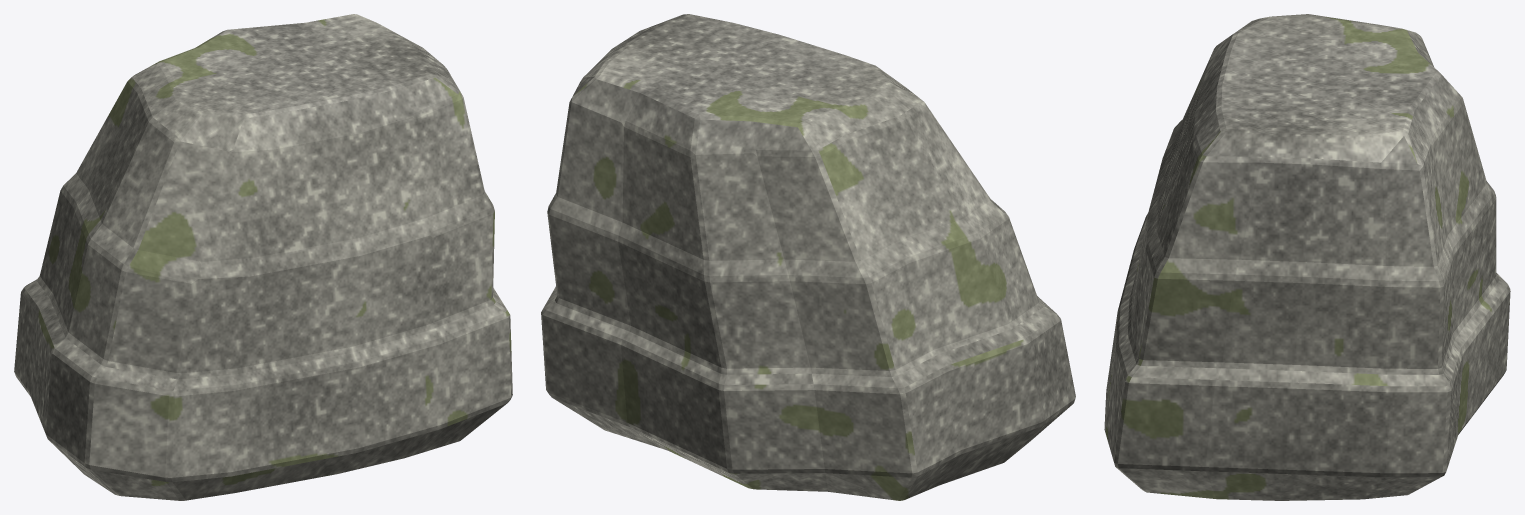
File: granite-kit-v02.glb
3 renders of one model, left to right at view 1: azimuth 30°, elevation 25°; view 2: azimuth 150°, elevation 25°; view 3: azimuth 270°, elevation 25°, orthographic. The views are drawn at different scales.
Parts seen in each view (by area): view 1: granite_2; view 2: granite_2; view 3: granite_2.
Boxes of the visible parts, bbox=[...] form: granite_2: bbox=[14, 14, 512, 500]; granite_2: bbox=[541, 14, 1075, 500]; granite_2: bbox=[1104, 14, 1510, 500].
Size of the model in its own units: 2.71 by 2.1 by 2.1.
1 material, 1 textured.
